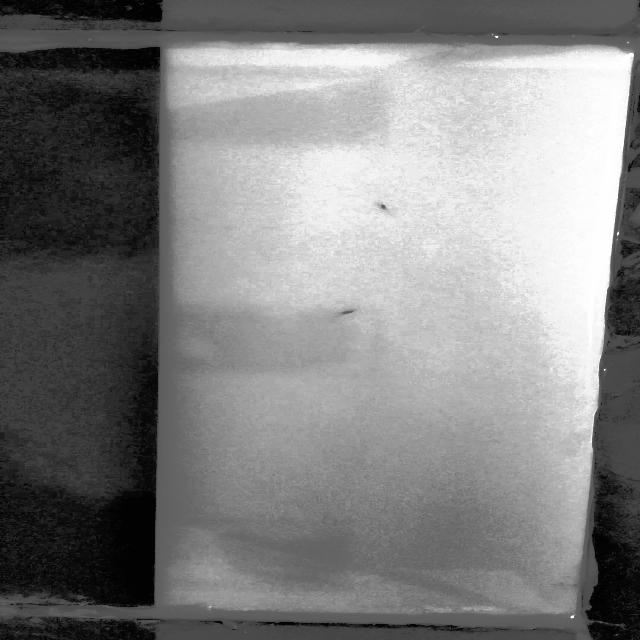shrimp: (366, 198, 394, 215), (332, 305, 358, 317)
